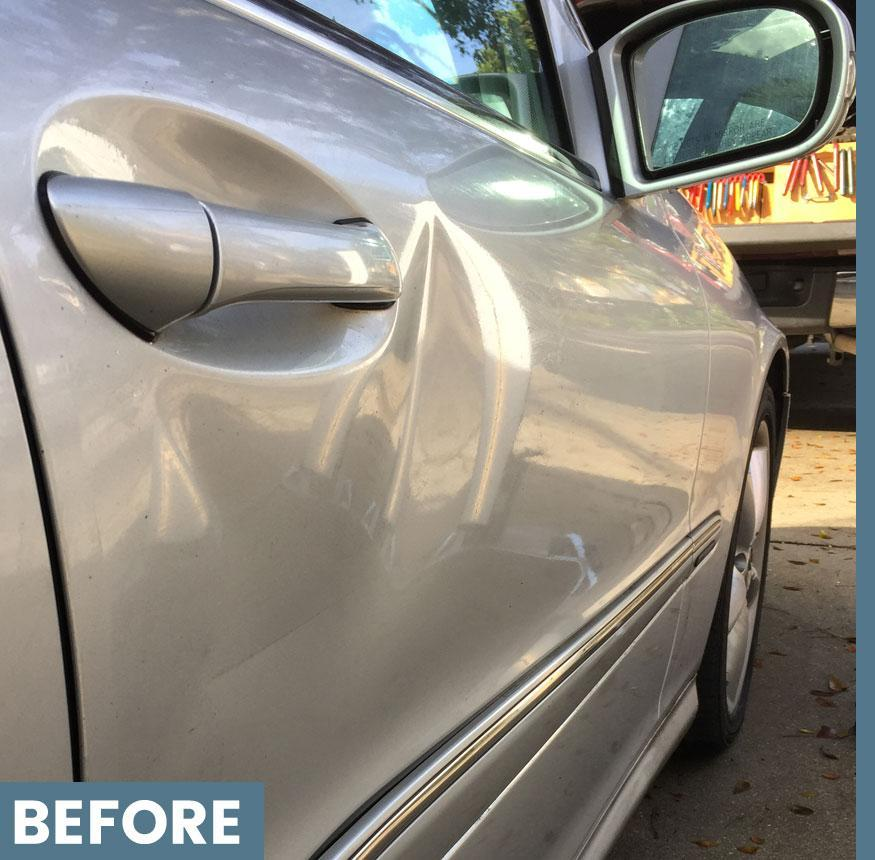dent: (335, 181, 545, 556)
